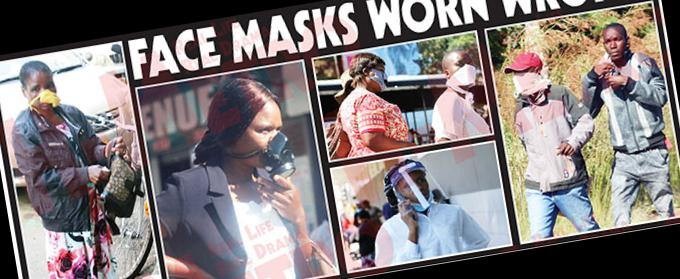mask_weared_incorrect: (399, 177, 444, 214), (28, 80, 63, 113)
with_mask: (249, 116, 295, 168), (448, 56, 479, 87), (507, 69, 542, 95), (368, 63, 394, 93)
without_mask: (602, 32, 629, 60)
